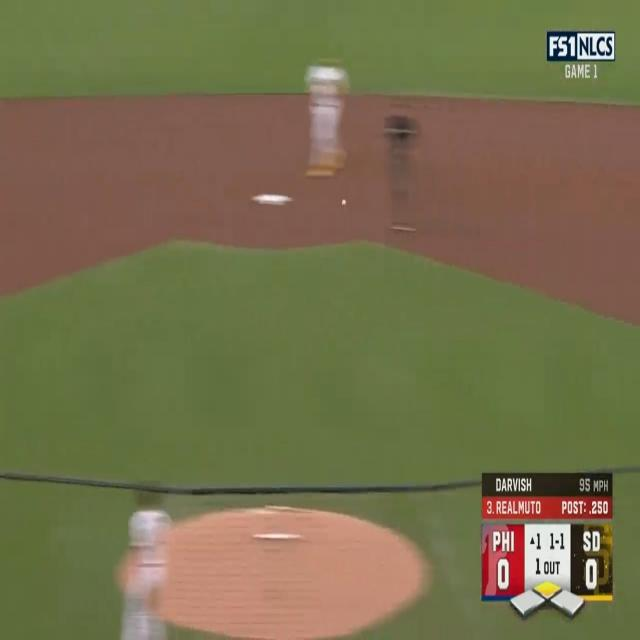baseball: (342, 200, 346, 205)
